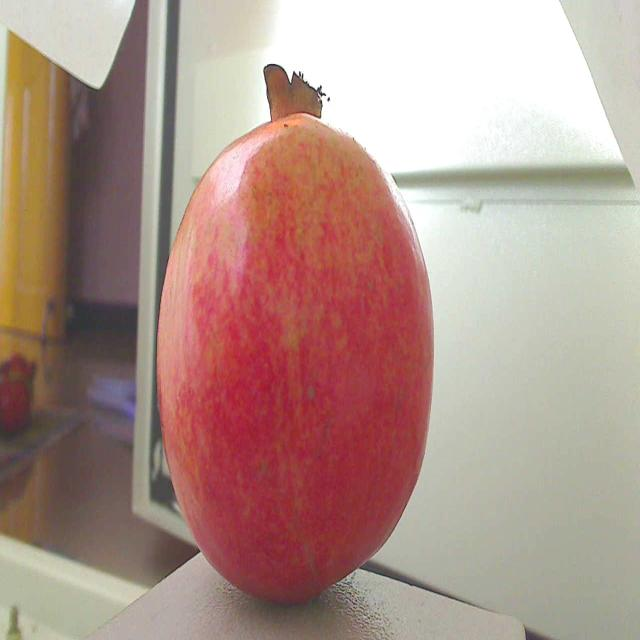pomegranate: (142, 51, 446, 640)
